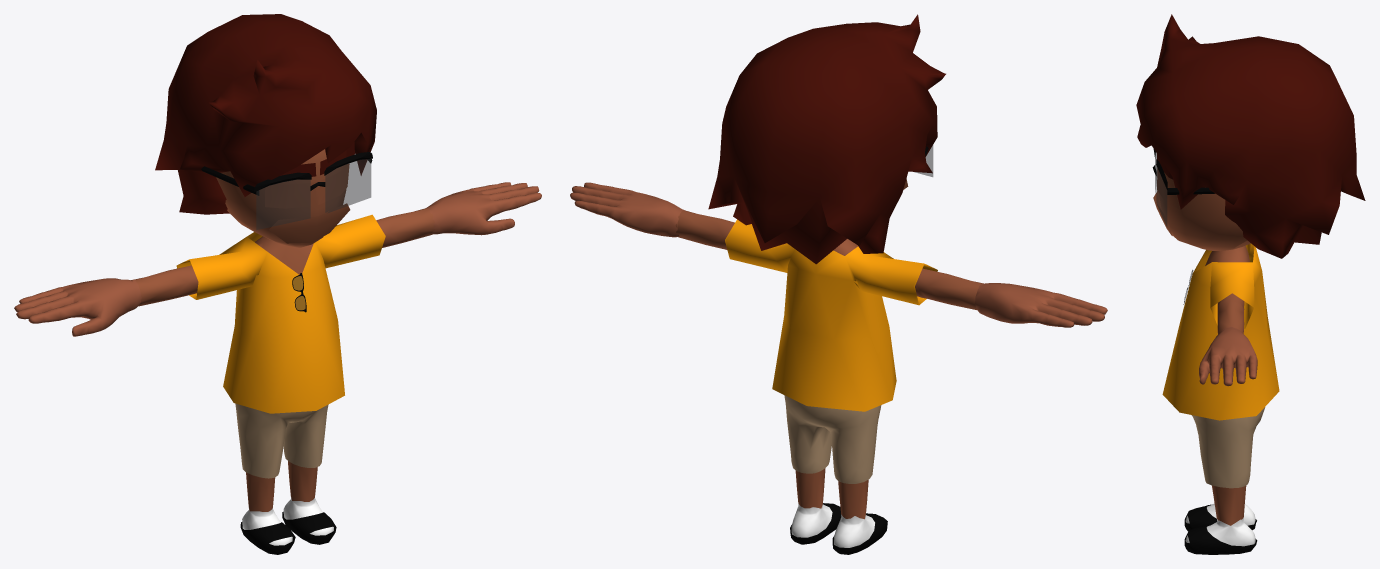
The model's file is Joueur du grenier en Mii.fbx.
The picture shows the model from 3 angles, left to right: view 1: azimuth 30°, elevation 25°; view 2: azimuth 150°, elevation 25°; view 3: azimuth 270°, elevation 25°; orthographic projection. The views are drawn at different scales.
Visible parts, largest first — view 1: Cheveux, chemise, Lunettes de base, Short, Main droite, Corps, Main gauche, Visage, Jambes, Sandales, Bouche et barbe, Oeil droit (+1 smaller); view 2: Cheveux, chemise, Short, Main droite, Jambes, Main gauche, Corps, Sandales; view 3: Cheveux, chemise, Short, Visage, Main gauche, Jambes, Sandales, Corps, Lunettes de base, Oeil gauche.
Part boxes in pixels (x1=…): Cheveux: x1=155, y1=14, x2=376, y2=214; chemise: x1=176, y1=214, x2=385, y2=413; Lunettes de base: x1=201, y1=152, x2=372, y2=229; Short: x1=235, y1=403, x2=328, y2=478; Main droite: x1=14, y1=278, x2=141, y2=336; Corps: x1=131, y1=208, x2=434, y2=306; Main gauche: x1=425, y1=182, x2=541, y2=235; Visage: x1=216, y1=149, x2=348, y2=247; Jambes: x1=242, y1=461, x2=333, y2=545; Sandales: x1=240, y1=511, x2=336, y2=554; Bouche et barbe: x1=269, y1=203, x2=350, y2=243; Oeil droit: x1=265, y1=182, x2=316, y2=208; Cheveux: x1=708, y1=14, x2=945, y2=264; chemise: x1=725, y1=219, x2=937, y2=411; Short: x1=784, y1=395, x2=881, y2=483; Main droite: x1=975, y1=283, x2=1107, y2=327; Jambes: x1=791, y1=468, x2=874, y2=547; Main gauche: x1=570, y1=182, x2=685, y2=237; Corps: x1=675, y1=210, x2=983, y2=309; Sandales: x1=790, y1=503, x2=887, y2=554; Cheveux: x1=1136, y1=14, x2=1365, y2=258; chemise: x1=1162, y1=243, x2=1279, y2=420; Short: x1=1191, y1=407, x2=1265, y2=488; Visage: x1=1159, y1=172, x2=1250, y2=251; Main gauche: x1=1199, y1=326, x2=1257, y2=386; Jambes: x1=1185, y1=485, x2=1255, y2=546; Sandales: x1=1184, y1=504, x2=1257, y2=554; Corps: x1=1205, y1=245, x2=1249, y2=334; Lunettes de base: x1=1152, y1=149, x2=1214, y2=226; Oeil gauche: x1=1157, y1=168, x2=1178, y2=208.
Bounding box in the file's own units: 2030 × 1894 × 787.
Materials: 8 (1 with a texture image).
